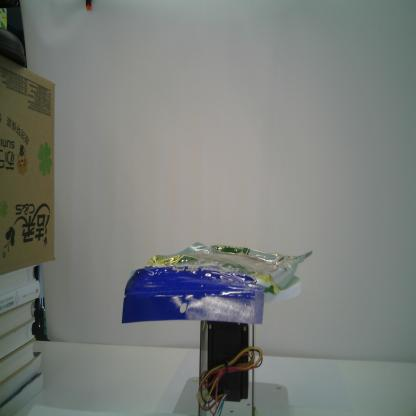Dried Food: (121, 242, 313, 324)
